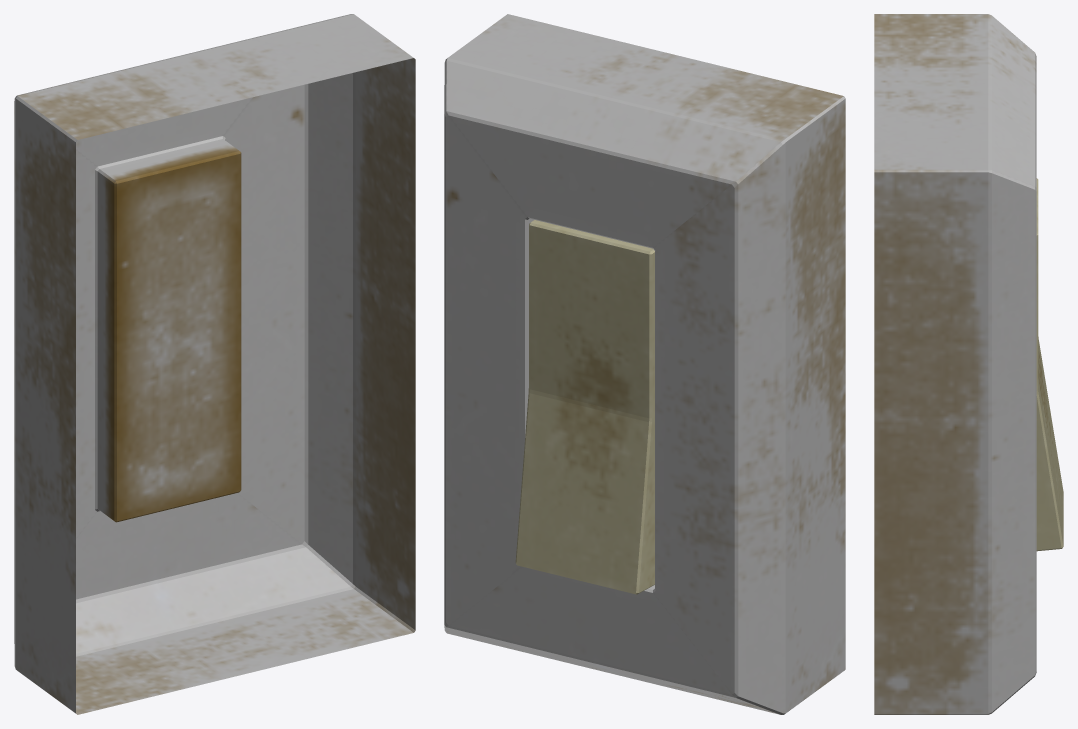
Rendered from Prop_Light_OnOff.fbx.
3 views of the same model, side by side, from view 1: azimuth 30°, elevation 25°; view 2: azimuth 150°, elevation 25°; view 3: azimuth 270°, elevation 25° (orthographic). The views are drawn at different scales.
Parts seen in each view (by area): view 1: Prop_Light_OnOff; view 2: Prop_Light_OnOff; view 3: Prop_Light_OnOff.
Part boxes in pixels (x1,y1,x2,y2): Prop_Light_OnOff: (14,14,415,714); Prop_Light_OnOff: (444,14,845,714); Prop_Light_OnOff: (874,14,1063,714).
Bounding box in the file's own units: 4.23 × 6.84 × 2.15.
